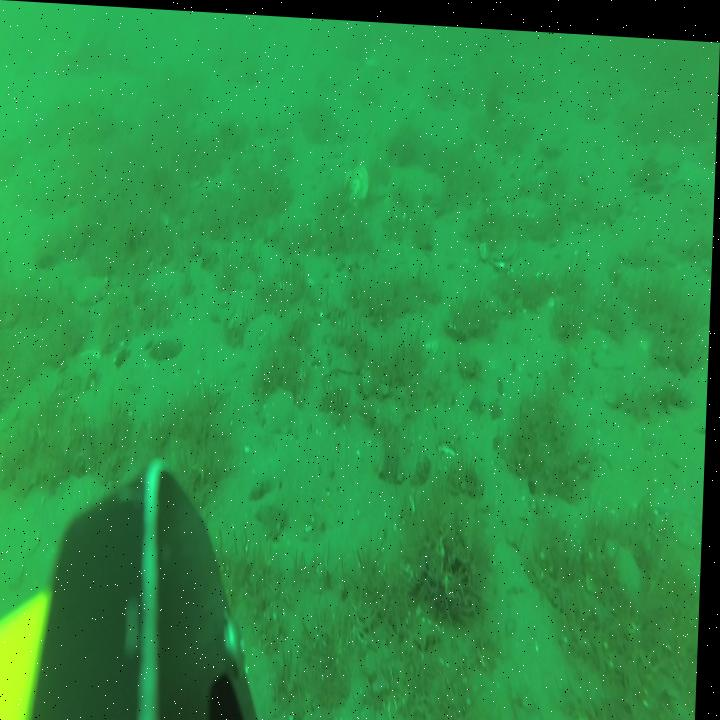scallop: (62, 473, 106, 530), (261, 382, 301, 435), (480, 229, 520, 266), (343, 159, 370, 203), (76, 274, 109, 304)
